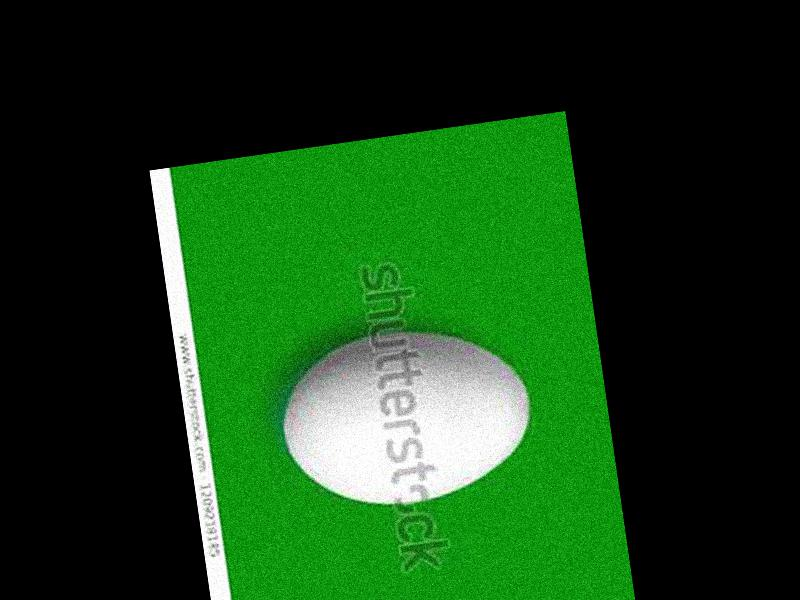Eggs: (274, 313, 540, 517)
